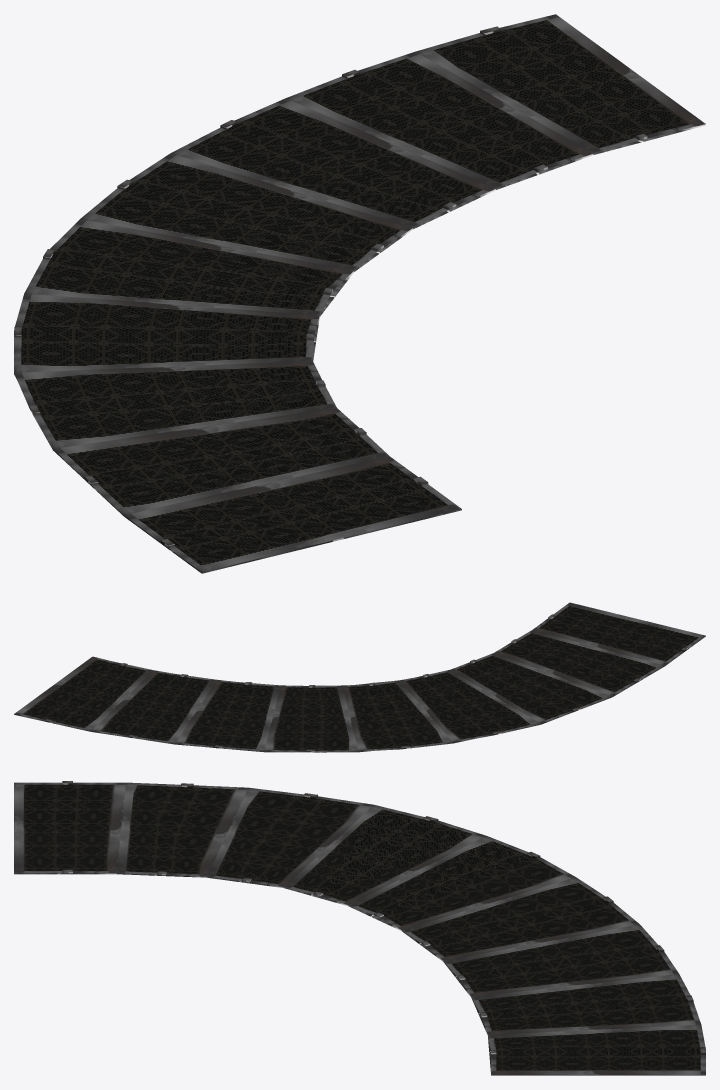
File: ShortTrackCurve.fbx
3 renders of one model, top to bottom at view 1: azimuth 30°, elevation 25°; view 2: azimuth 150°, elevation 25°; view 3: azimuth 270°, elevation 25°, orthographic. The views are drawn at different scales.
Visible parts, largest first — view 1: Track; view 2: Track; view 3: Track.
Boxes of the visible parts, bbox=[...] form: Track: bbox=[14, 14, 705, 573]; Track: bbox=[14, 602, 705, 752]; Track: bbox=[14, 781, 705, 1075].
Bounding box in the file's own units: 12881 × 50 × 12882.
Materials: 1 (1 with a texture image).
